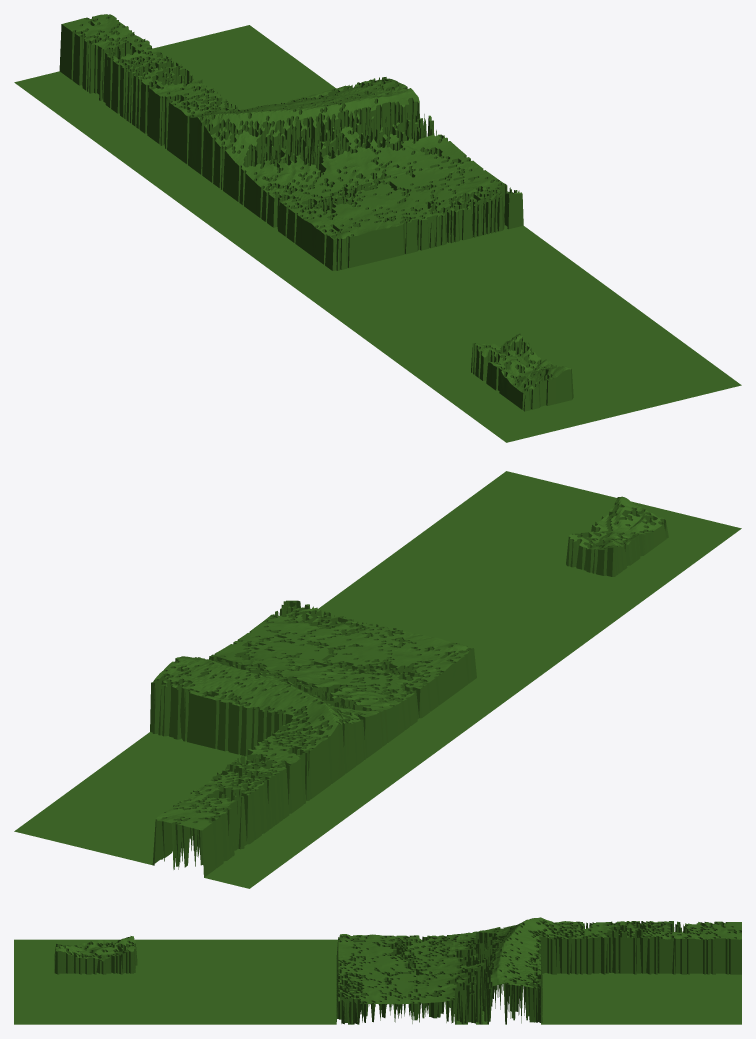
Rendered from alsasua_terrain_LOD2.fbx.
The picture shows the model from 3 angles, top to bottom: view 1: azimuth 30°, elevation 25°; view 2: azimuth 150°, elevation 25°; view 3: azimuth 270°, elevation 25°; orthographic projection. The views are drawn at different scales.
Visible parts, largest first — view 1: Terrain_LOD2_40m; view 2: Terrain_LOD2_40m; view 3: Terrain_LOD2_40m.
Part boxes in pixels (left/top/right/bottom): Terrain_LOD2_40m: left=14, top=14, right=741, bottom=442; Terrain_LOD2_40m: left=14, top=471, right=741, bottom=888; Terrain_LOD2_40m: left=14, top=917, right=741, bottom=1024.
Bounding box in the file's own units: 4960 × 1202 × 17960.
